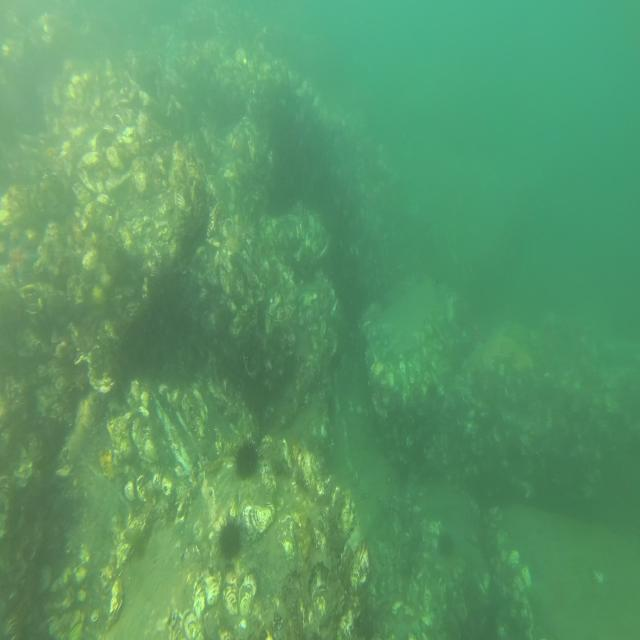echinus: (216, 516, 245, 567), (234, 441, 261, 481), (437, 531, 454, 558)
starfish: (7, 240, 38, 281), (230, 136, 246, 160)
